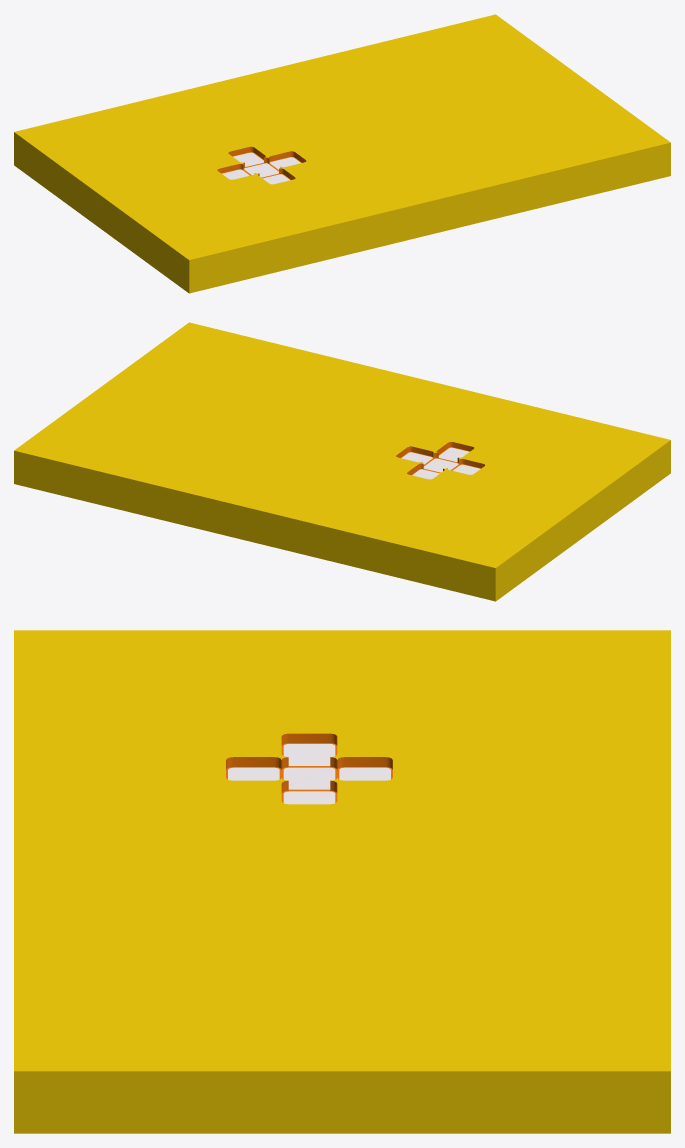
File: level1.fbx
3 renders of one model, top to bottom at view 1: azimuth 30°, elevation 25°; view 2: azimuth 150°, elevation 25°; view 3: azimuth 270°, elevation 25°, orthographic. The views are drawn at different scales.
Parts seen in each view (by area): view 1: Ground.007; view 2: Ground.007; view 3: Ground.007.
Part boxes in pixels (bbox=[...]): Ground.007: bbox=[14, 14, 670, 293]; Ground.007: bbox=[14, 322, 670, 601]; Ground.007: bbox=[14, 630, 670, 1133].
Size of the model in its own units: 7677 by 508 by 4834.
